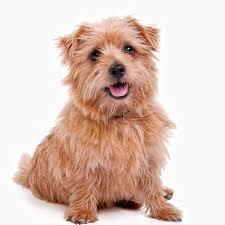Dog: (51, 12, 167, 120)
